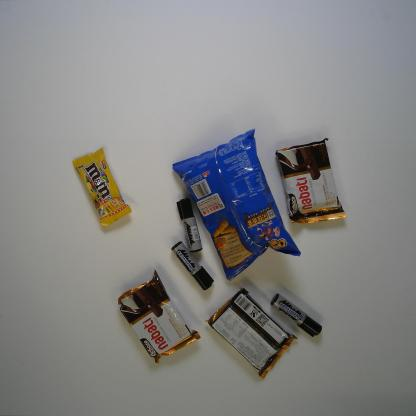Chocolate: (71, 146, 131, 230)
Dessert: (205, 284, 297, 382), (116, 268, 203, 364), (274, 136, 348, 226)
Puffed Food: (170, 127, 302, 282)
Stationery: (270, 292, 324, 339), (170, 240, 216, 292), (174, 197, 202, 253)
